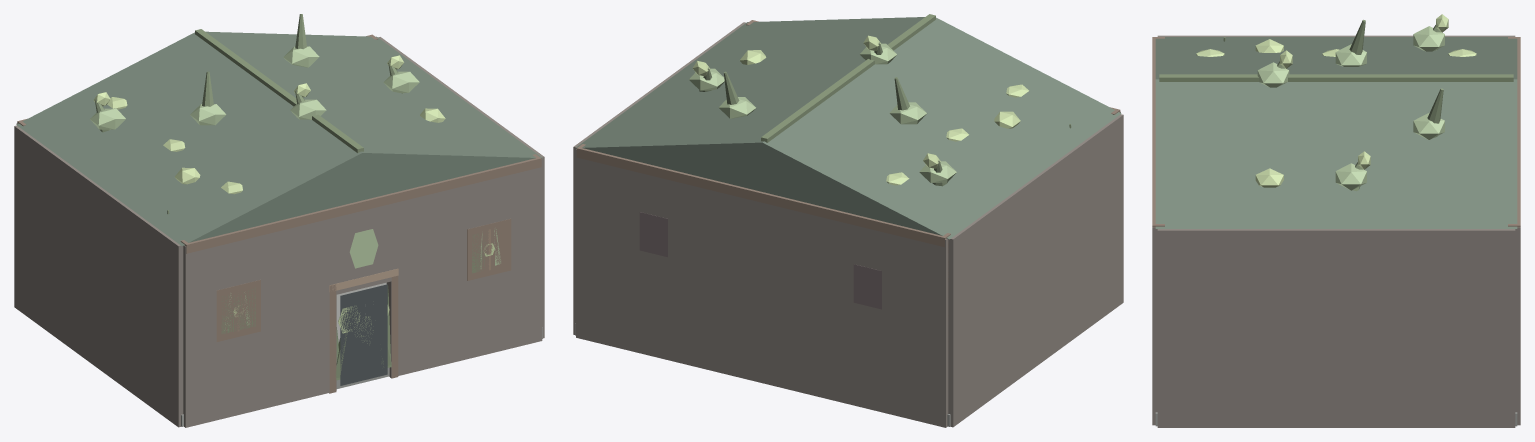
File: bell_schoolhouse_infested.glb
3 renders of one model, left to right at view 1: azimuth 30°, elevation 25°; view 2: azimuth 150°, elevation 25°; view 3: azimuth 270°, elevation 25°, orthographic. The views are drawn at different scales.
Visible parts, largest first — view 1: bell_schoolhouse_mat_01, bell_schoolhouse_mat_10, bell_schoolhouse_mat_02, bell_schoolhouse_mat_04, bell_schoolhouse_mat_06, bell_schoolhouse_mat_08, bell_schoolhouse_mat_05, bell_schoolhouse_mat_00, bell_schoolhouse_mat_03; view 2: bell_schoolhouse_mat_01, bell_schoolhouse_mat_10, bell_schoolhouse_mat_02, bell_schoolhouse_mat_06, bell_schoolhouse_mat_08, bell_schoolhouse_mat_09, bell_schoolhouse_mat_05; view 3: bell_schoolhouse_mat_01, bell_schoolhouse_mat_10, bell_schoolhouse_mat_06, bell_schoolhouse_mat_08, bell_schoolhouse_mat_05, bell_schoolhouse_mat_02.
Part boxes in pixels (left/top/right/bottom): bell_schoolhouse_mat_01: left=14, top=37, right=544, bottom=427; bell_schoolhouse_mat_10: left=16, top=31, right=542, bottom=245; bell_schoolhouse_mat_02: left=17, top=34, right=541, bottom=393; bell_schoolhouse_mat_04: left=340, top=284, right=387, bottom=385; bell_schoolhouse_mat_06: left=95, top=14, right=497, bottom=380; bell_schoolhouse_mat_08: left=90, top=46, right=500, bottom=330; bell_schoolhouse_mat_05: left=93, top=55, right=494, bottom=343; bell_schoolhouse_mat_00: left=181, top=282, right=542, bottom=426; bell_schoolhouse_mat_03: left=329, top=268, right=398, bottom=291; bell_schoolhouse_mat_01: left=573, top=22, right=1123, bottom=427; bell_schoolhouse_mat_10: left=575, top=17, right=1121, bottom=239; bell_schoolhouse_mat_02: left=576, top=20, right=1120, bottom=398; bell_schoolhouse_mat_06: left=699, top=14, right=1071, bottom=186; bell_schoolhouse_mat_08: left=689, top=43, right=956, bottom=182; bell_schoolhouse_mat_09: left=639, top=212, right=881, bottom=309; bell_schoolhouse_mat_05: left=692, top=35, right=1028, bottom=185; bell_schoolhouse_mat_01: left=1152, top=35, right=1520, bottom=427; bell_schoolhouse_mat_10: left=1155, top=37, right=1517, bottom=228; bell_schoolhouse_mat_06: left=1159, top=19, right=1513, bottom=191; bell_schoolhouse_mat_08: left=1257, top=26, right=1444, bottom=190; bell_schoolhouse_mat_05: left=1196, top=14, right=1476, bottom=187; bell_schoolhouse_mat_02: left=1152, top=37, right=1520, bottom=227.
Size of the model in its own units: 4.97 by 3.33 by 3.98.
